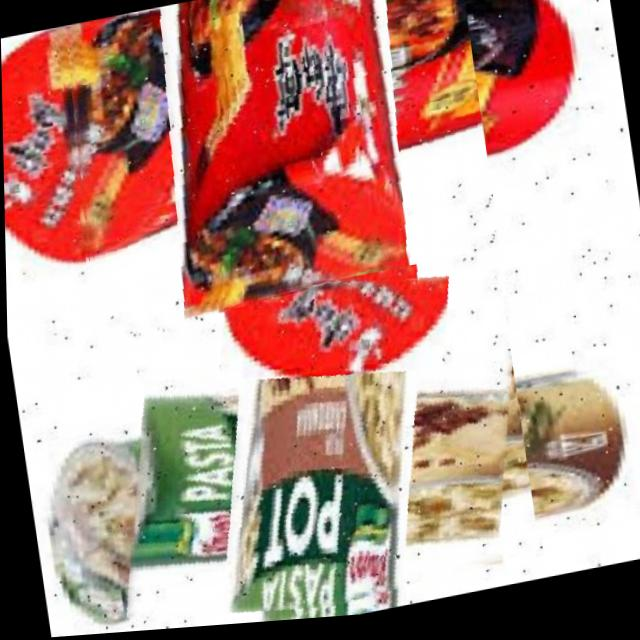Miscellaneous: (94, 252, 540, 635), (49, 0, 502, 350)
